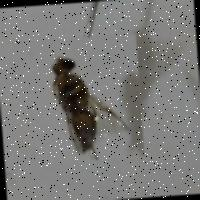Oriental-fruit-fly: (28, 32, 144, 162)
